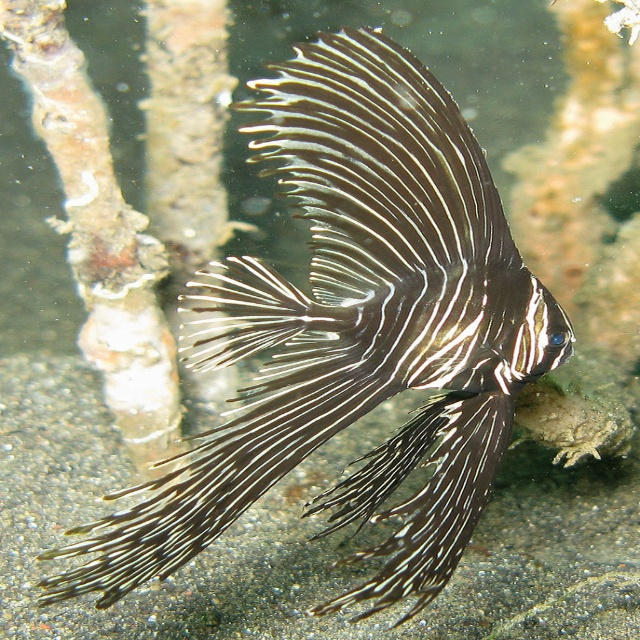Fish: (26, 27, 576, 628)
